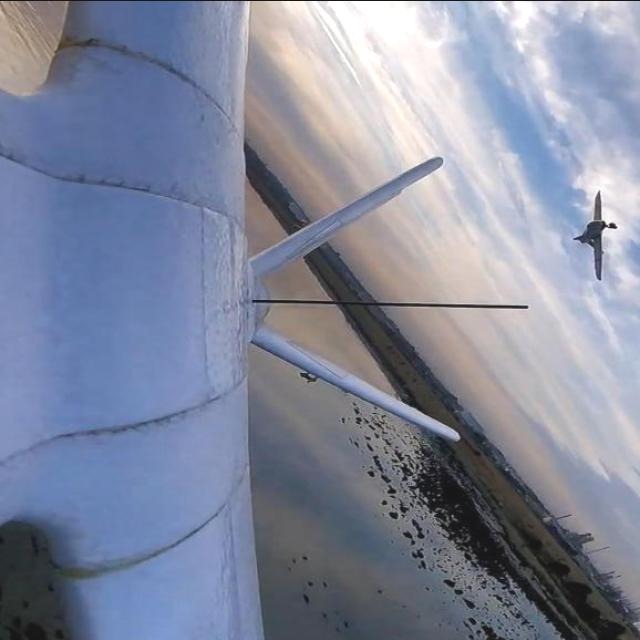plane: (572, 188, 618, 279)
